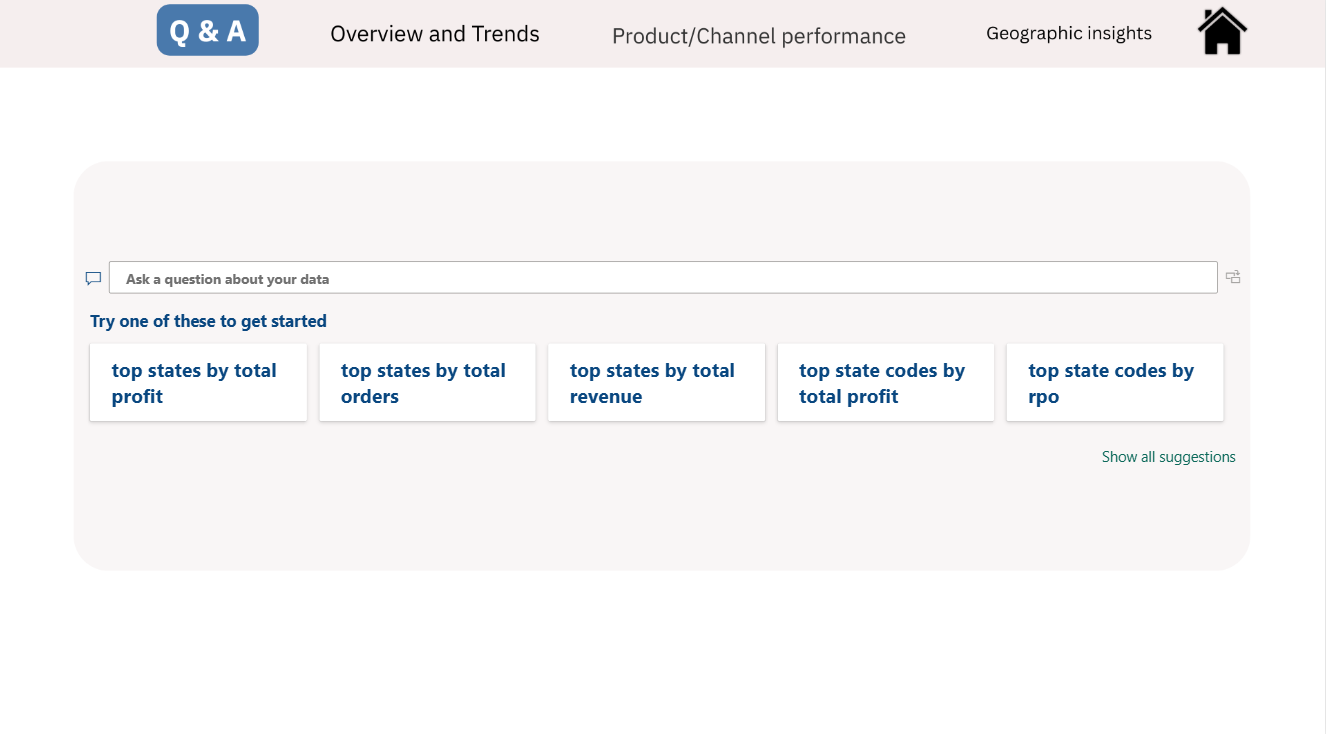

This screenshot's page, from the dashboard's own definition file:
{"tool":"powerbi","page":{"name":"Q & A","canvas":[1280,720],"ordinal":4},"visuals":[{"type":"qnaVisual","box":[74.7,233.7,1131.9,279.9],"z":0},{"type":"actionButton","box":[308.5,14.9,228.3,43.5],"z":1000},{"type":"actionButton","box":[563.9,17.7,323.4,40.8],"z":2000},{"type":"actionButton","box":[932.1,17.7,206.5,40.8],"z":3000},{"type":"actionButton","box":[1156.3,0,50.3,73.4],"z":4000}]}

Visuals, with their boxes in screenshot pixels (x1, y1, x2, y2), scaled from the page's 1280x720 canvas onto the 1326x734 screenshot:
qnaVisual: [x1=77, y1=238, x2=1250, y2=524]
actionButton: [x1=320, y1=15, x2=556, y2=60]
actionButton: [x1=584, y1=18, x2=919, y2=60]
actionButton: [x1=966, y1=18, x2=1180, y2=60]
actionButton: [x1=1198, y1=0, x2=1250, y2=75]
